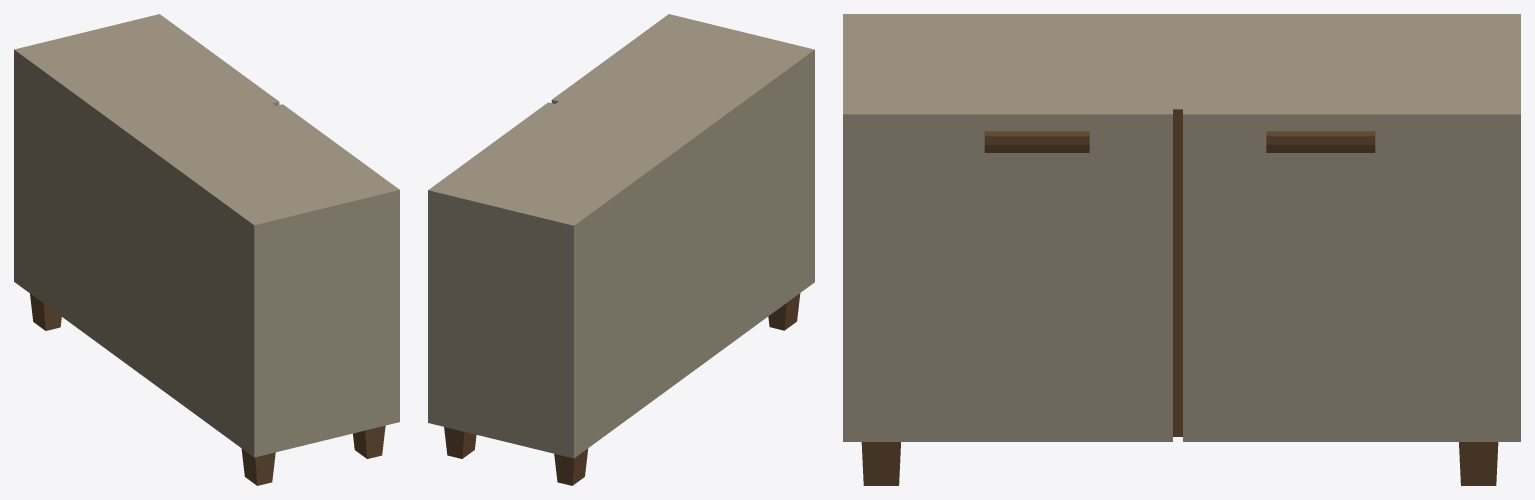
The model's file is Storage3.glb.
The picture shows the model from 3 angles, left to right: view 1: azimuth 30°, elevation 25°; view 2: azimuth 150°, elevation 25°; view 3: azimuth 270°, elevation 25°; orthographic projection. The views are drawn at different scales.
Parts seen in each view (by area): view 1: Cube; view 2: Cube; view 3: Cube.
Boxes of the visible parts, <box> form: Cube: <box>14,14,399,485</box>; Cube: <box>428,14,814,485</box>; Cube: <box>843,14,1520,485</box>.
Bounding box in the file's own units: 0.4484 × 0.74 × 1.2.
